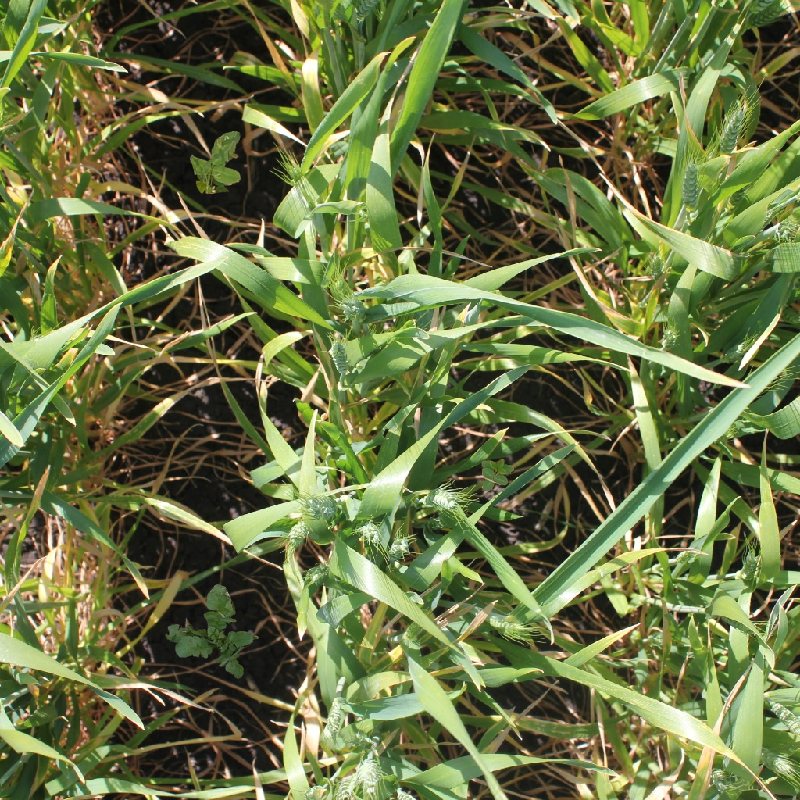spikelet: (281, 151, 318, 211), (716, 99, 752, 154), (764, 693, 799, 745), (331, 278, 363, 326), (758, 746, 799, 779), (487, 611, 533, 640), (304, 490, 348, 520), (321, 693, 350, 738), (769, 355, 800, 397), (746, 1, 793, 27), (679, 157, 701, 212), (353, 754, 382, 793), (709, 766, 743, 798), (327, 332, 352, 375), (420, 485, 460, 511), (738, 548, 762, 586), (771, 214, 799, 243), (642, 249, 668, 278), (385, 534, 412, 561), (355, 519, 382, 545), (658, 322, 680, 350), (352, 1, 382, 20)
weed: (165, 584, 259, 679), (190, 131, 241, 194), (481, 459, 515, 491)
